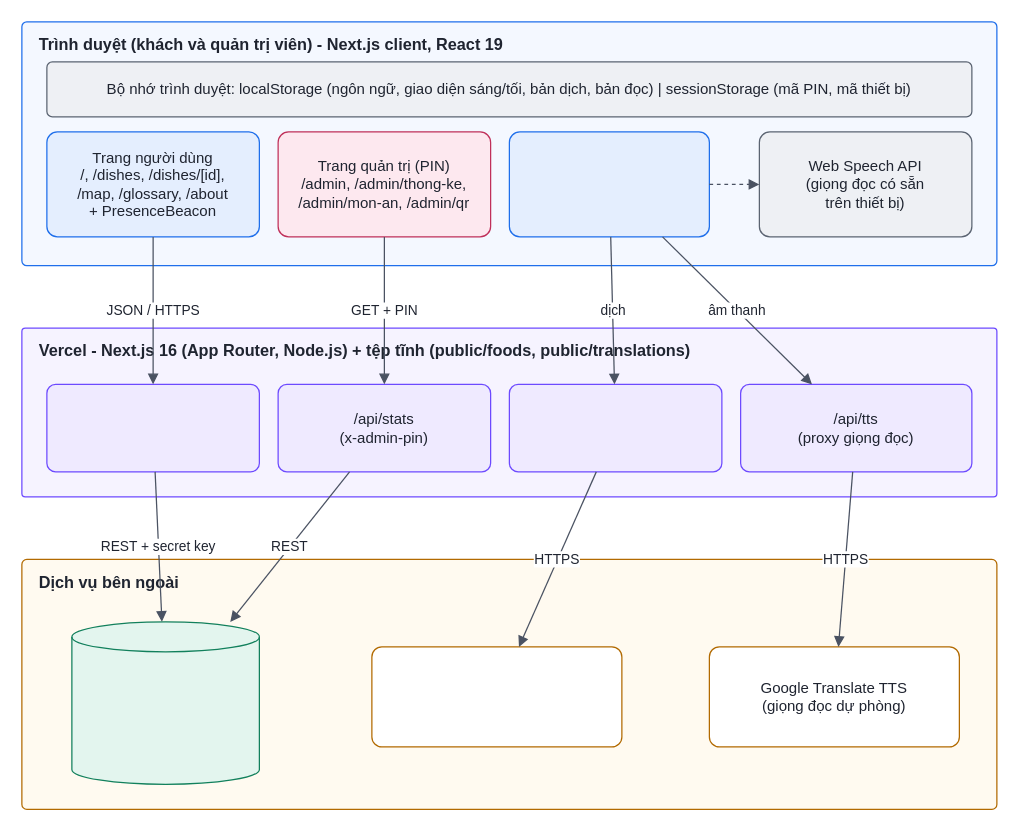
Some shapes in this 1019 by 831 pixel diagram are drawn without their labels. Each missing label, with the centre of its shape:
"/api/presence /api/play, /api/feature" goes at (152,427).
"/api/translate (proxy dịch)" goes at (615,427).
"Google Translate (gtx, không cần khóa)" goes at (496,696).
"Hooks useSpeech (đọc từng câu) useL10n (bản dịch)" goes at (608,184).
"Supabase PostgreSQL (REST) 5 bảng thống kê" goes at (165,702).
